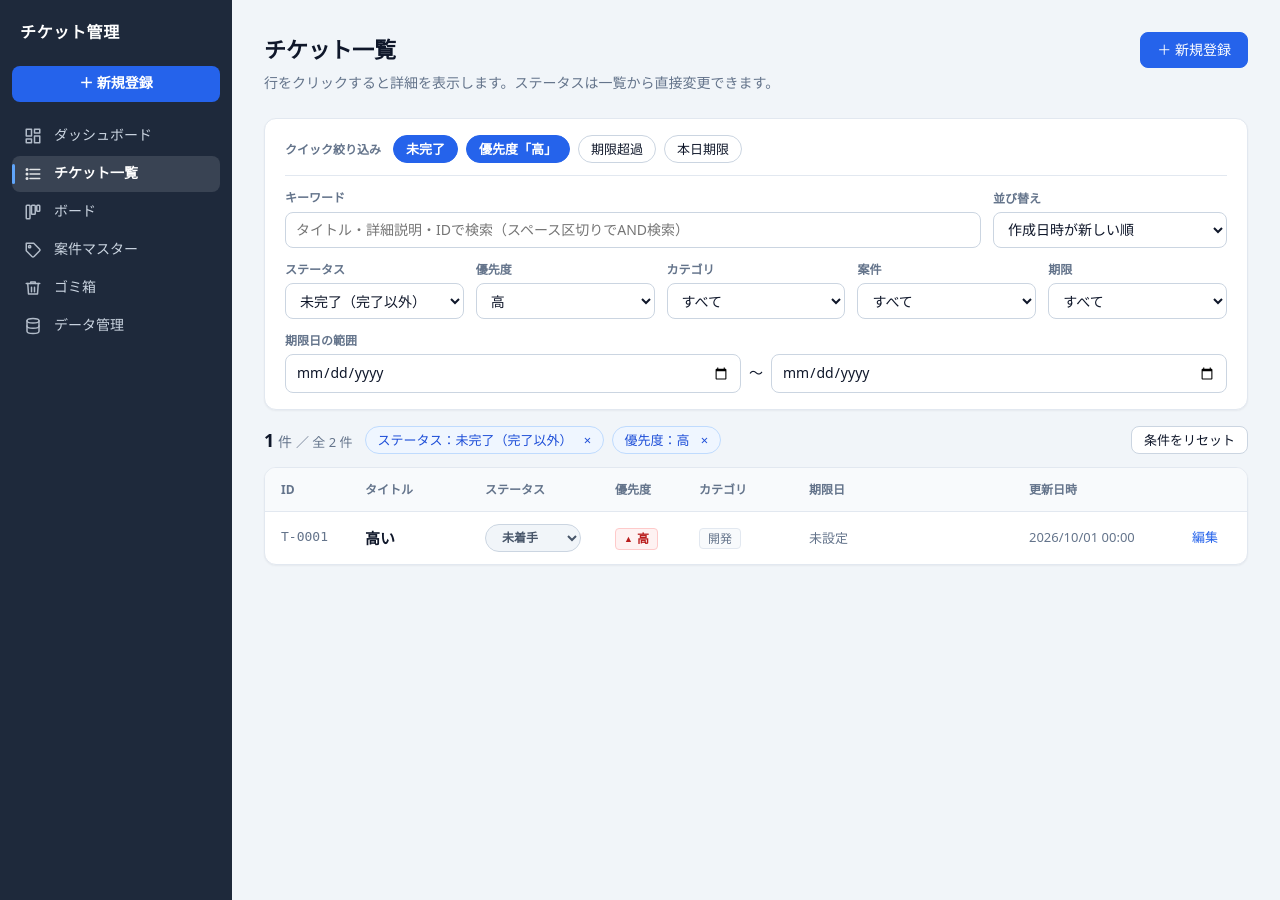
it: ナビゲーションと一覧の条件表示 › 適用中の条件をチップで表示し、個別に解除・まとめてリセットできる
Expected: the text "優先度：高" is shown, 624,430 -> 690,450
Expected: the text "ステータス：未完了（完了以外）" is shown, 378,430 -> 572,450
Click the button named "「優先度：高」を解除" at (705, 440), box 694,429 -> 716,451
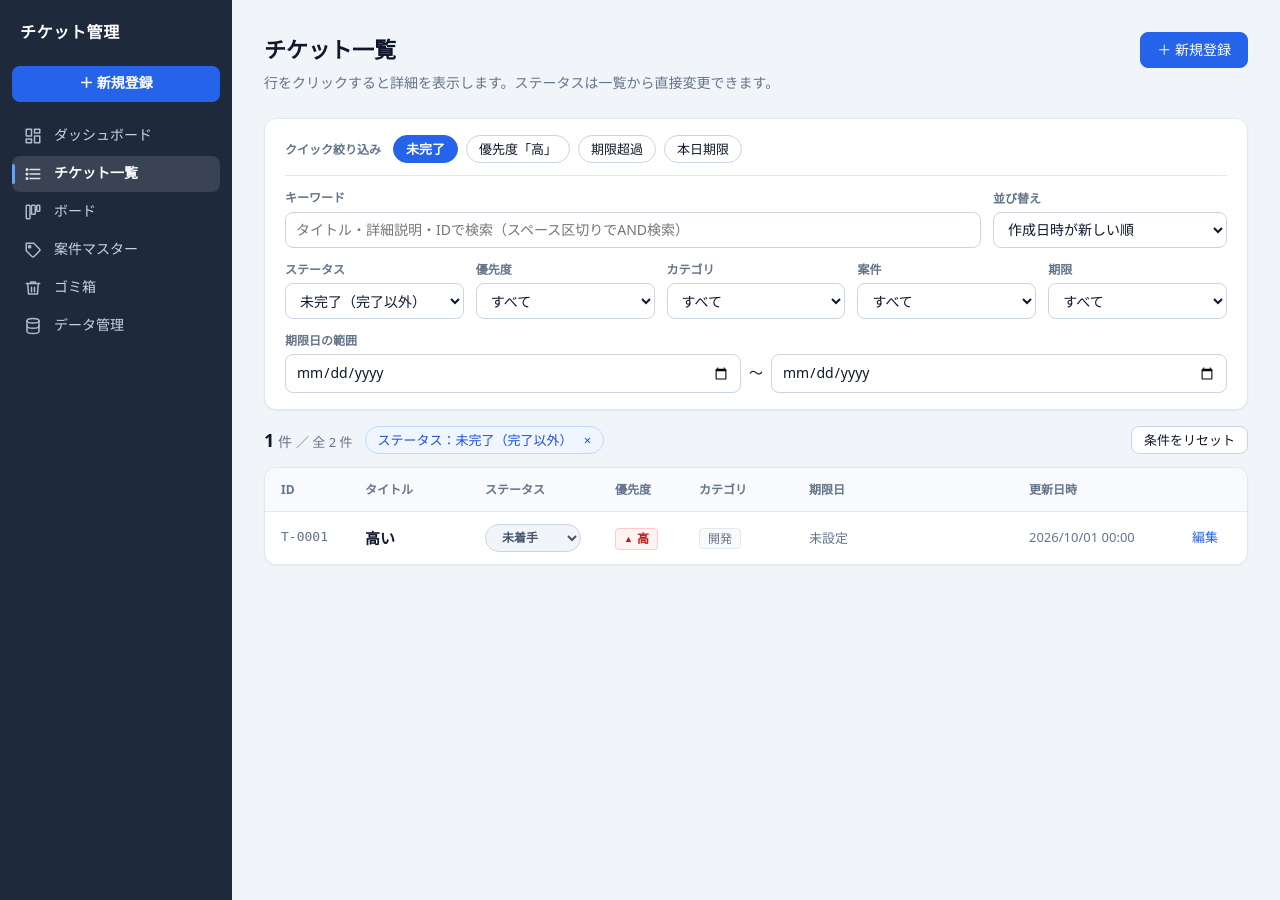
Expected: the text "ステータス：未完了（完了以外）" is shown, 378,430 -> 572,450
Now the text "優先度：高" is gone
Click the button "条件をリセット" at (1190, 440), box 1131,426 -> 1248,454
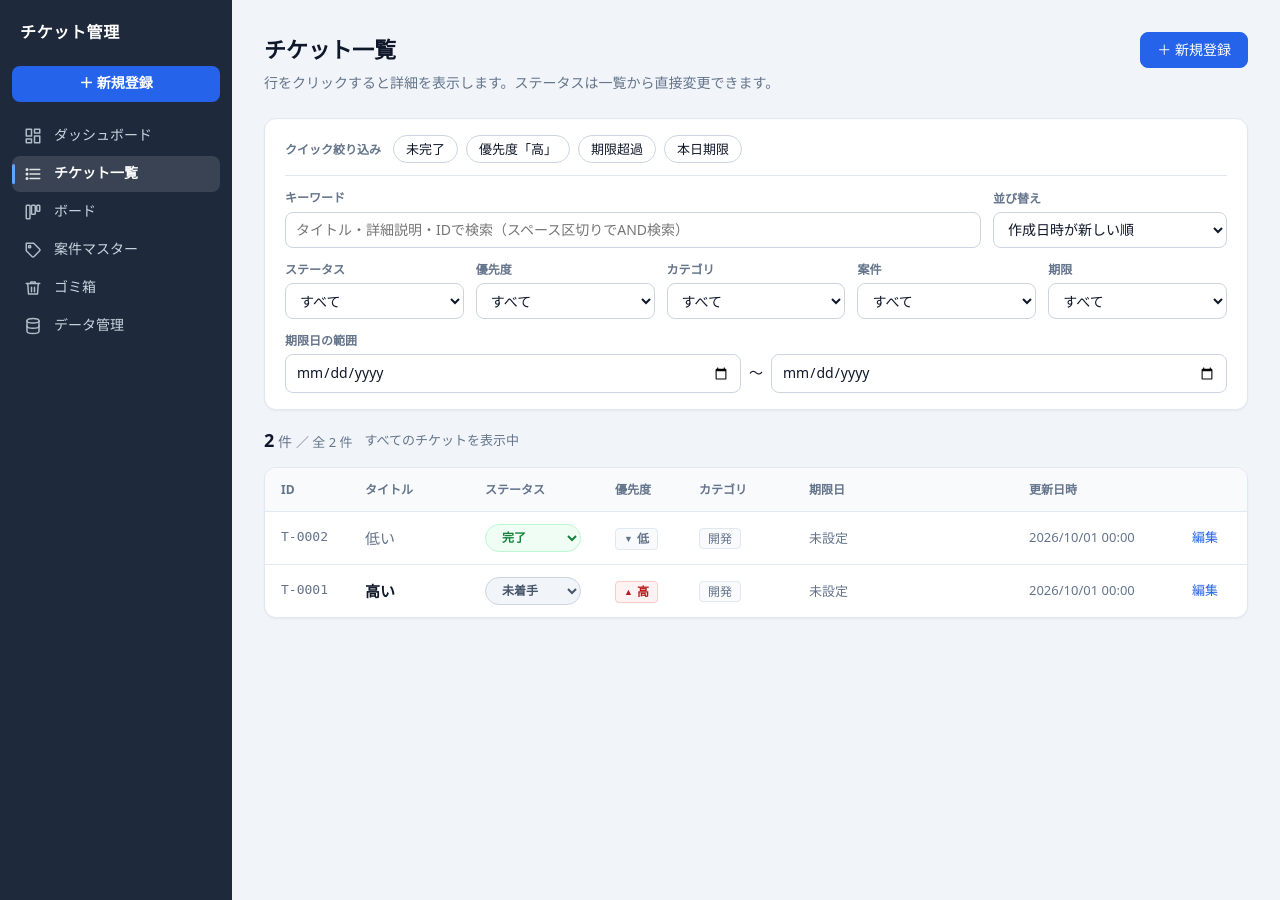
Expected: the dropdown labelled "並び替え" shows "作成日時が新しい順", 993,212 -> 1227,248
Now the text "すべてのチケットを表示中" is shown, box 364,430 -> 519,450
Now the link "低い" is shown, box 365,528 -> 395,548
